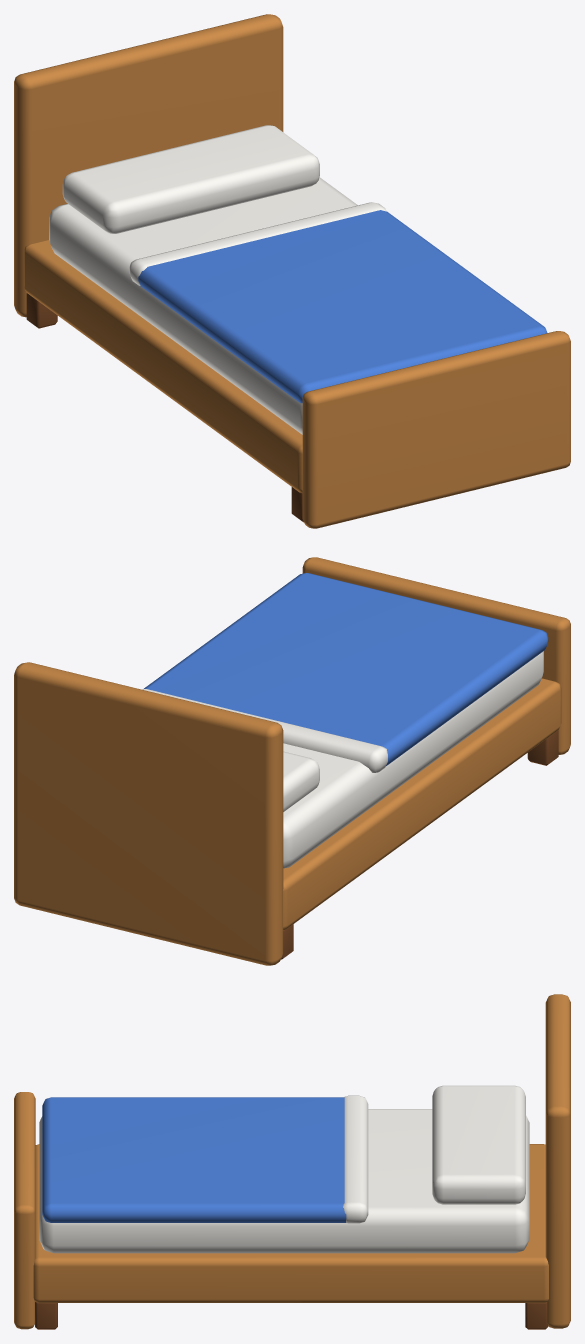
The model's file is Bed.fbx.
The picture shows the model from 3 angles, top to bottom: view 1: azimuth 30°, elevation 25°; view 2: azimuth 150°, elevation 25°; view 3: azimuth 270°, elevation 25°; orthographic projection. The views are drawn at different scales.
Visible parts, largest first — view 1: Bed; view 2: Bed; view 3: Bed.
Boxes of the visible parts, x1=… form: Bed: x1=14, y1=14, x2=570, y2=528; Bed: x1=14, y1=557, x2=570, y2=965; Bed: x1=14, y1=994, x2=570, y2=1329.
Bounding box in the file's own units: 3.9 × 3.4 × 7.73.
1 material, 1 textured.
